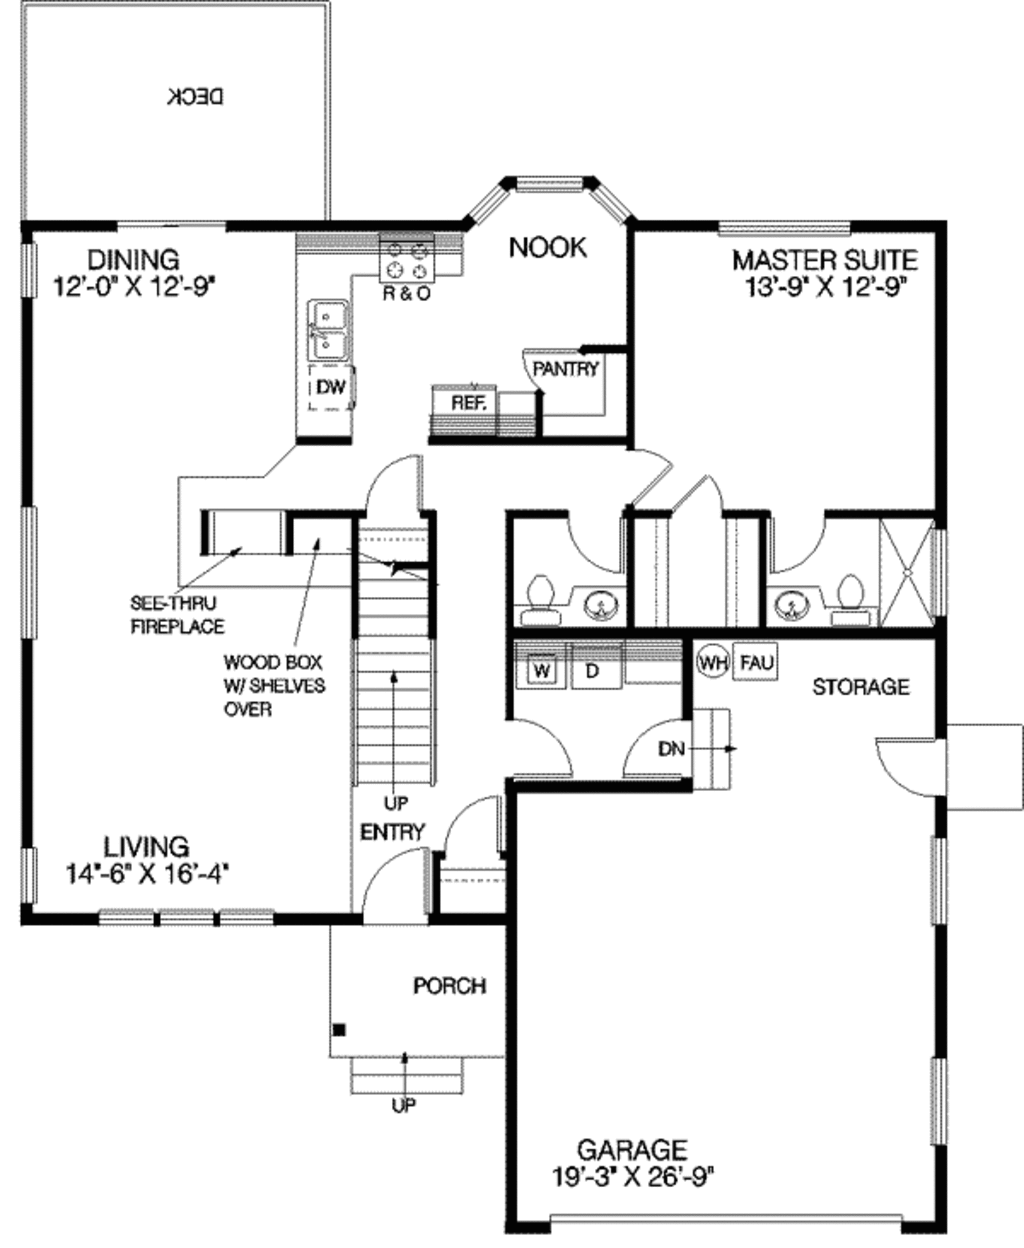door: (355, 840, 438, 931), (869, 729, 961, 810), (434, 792, 509, 871), (502, 715, 584, 786), (352, 456, 434, 523), (627, 717, 698, 786), (573, 508, 633, 583), (769, 513, 831, 583), (521, 340, 584, 394), (667, 473, 733, 523), (623, 438, 667, 508)
large_sink: (831, 567, 873, 635), (515, 560, 554, 631)
small_sink: (756, 577, 827, 635), (565, 586, 631, 631)
stairs: (340, 517, 440, 794), (344, 1042, 463, 1094)
twin_sink: (300, 296, 379, 373)
window: (465, 167, 636, 238), (11, 504, 50, 636), (713, 215, 852, 240), (94, 908, 284, 927), (917, 831, 948, 923), (8, 238, 48, 306), (17, 838, 52, 910), (929, 1060, 952, 1152), (115, 211, 227, 229)
